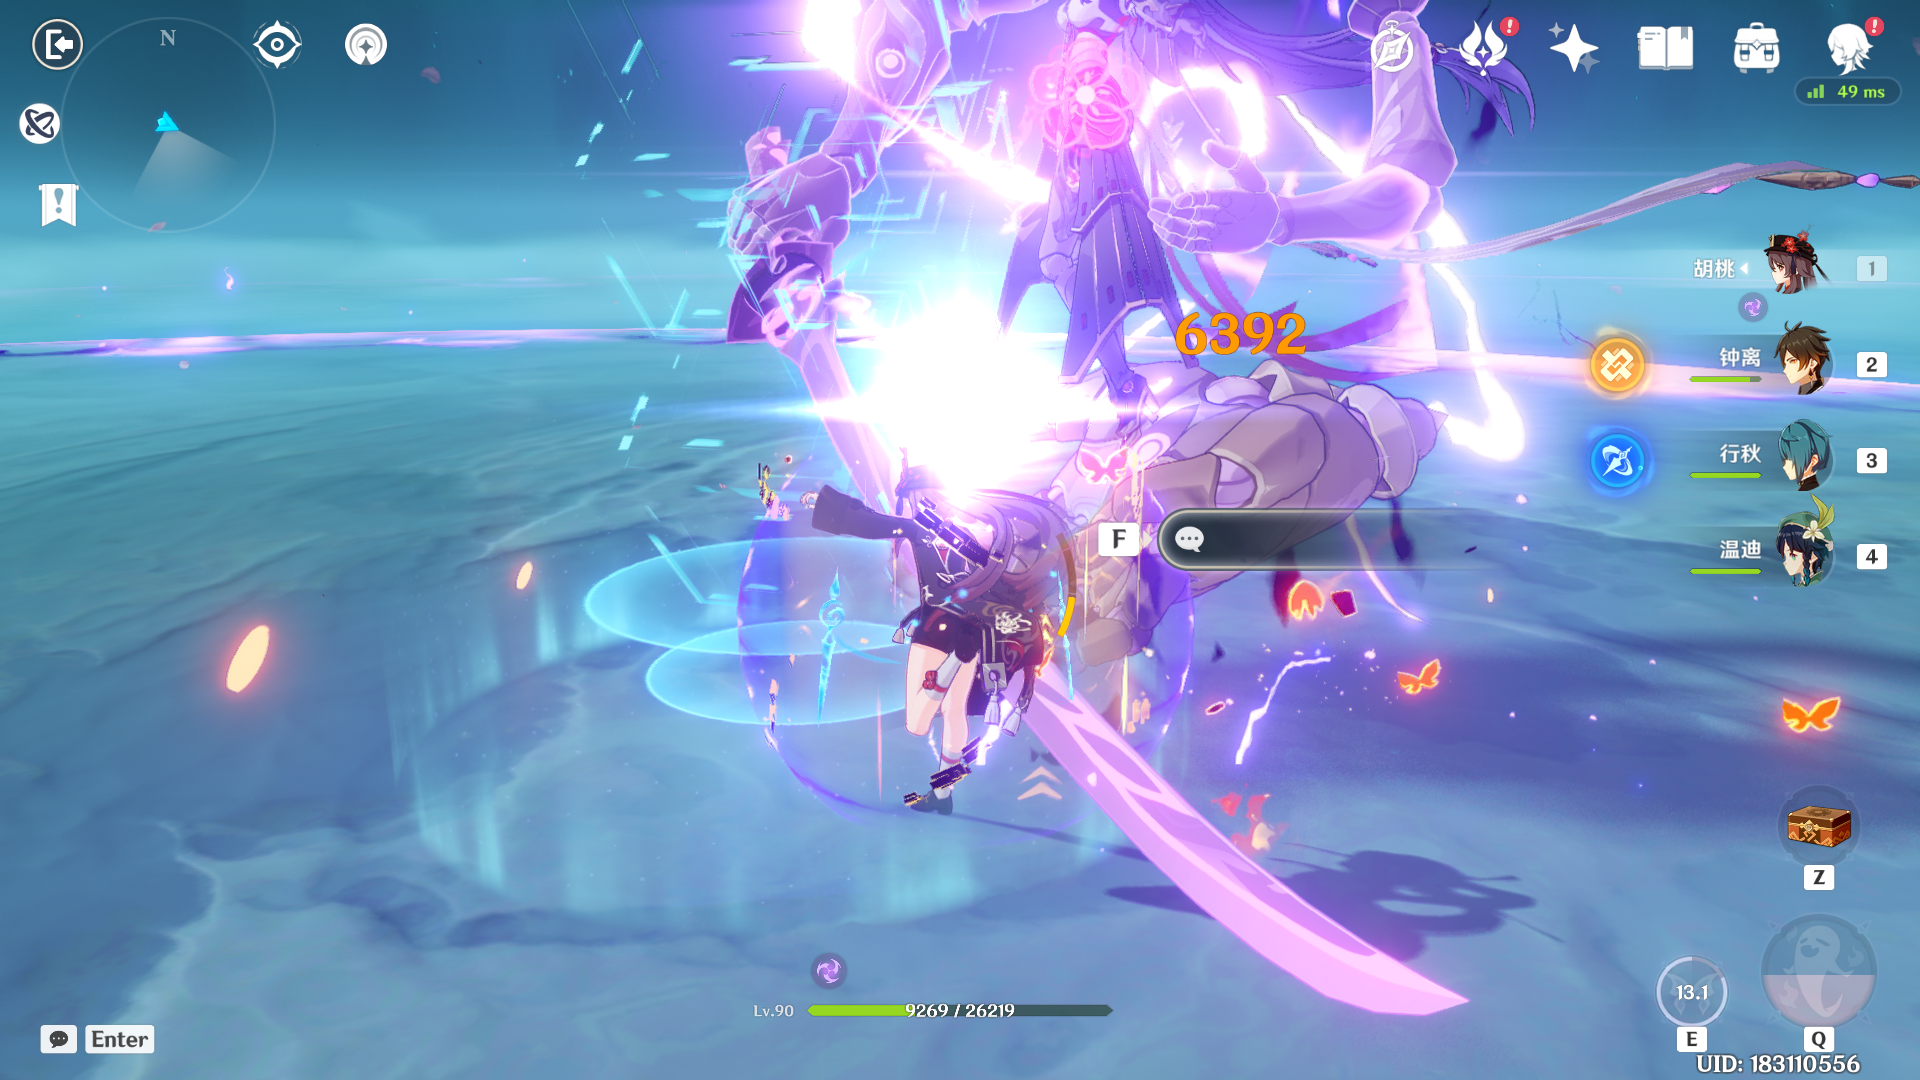character: (773, 414, 1104, 848)
